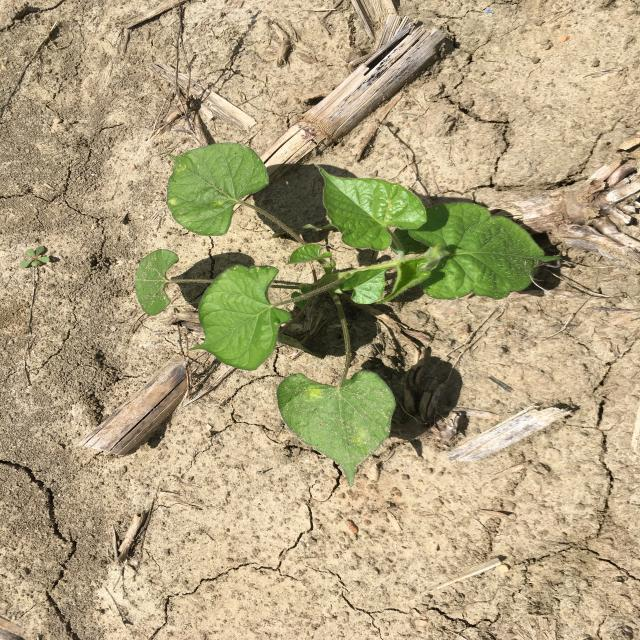Carpetweed: (19, 246, 50, 268)
MorningGlory: (134, 142, 561, 486)
